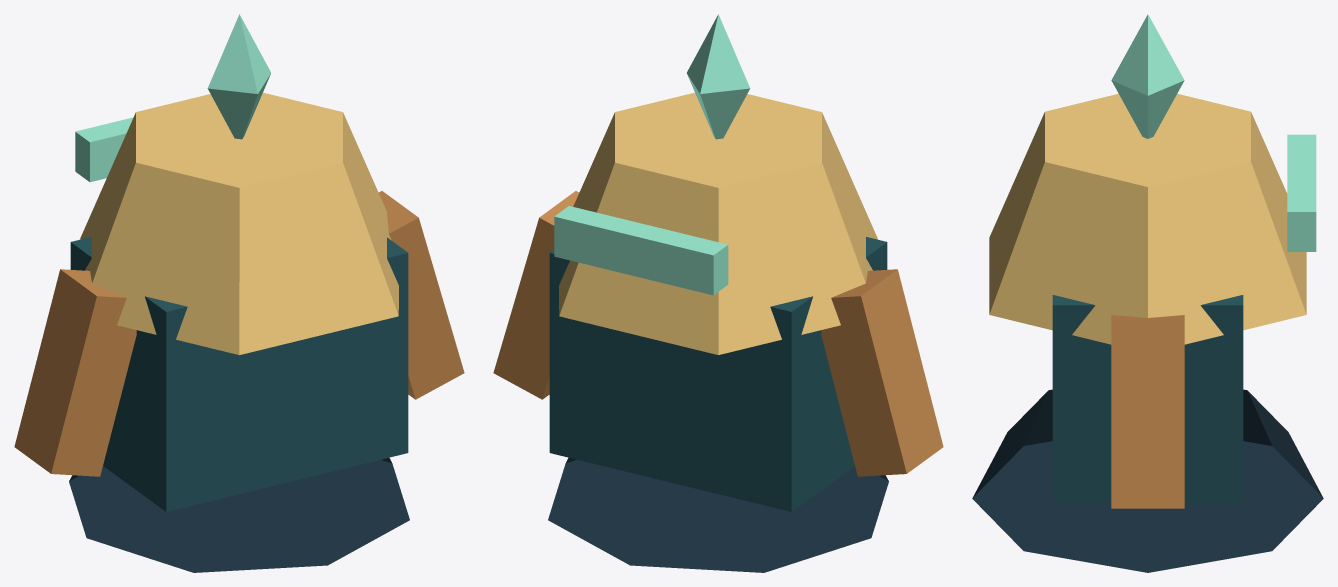
Rendered from Surveyor.obj.
3 renders of one model, left to right at view 1: azimuth 30°, elevation 25°; view 2: azimuth 150°, elevation 25°; view 3: azimuth 270°, elevation 25°, orthographic.
Size of the model in its own units: 3.24 by 3.65 by 2.4.
